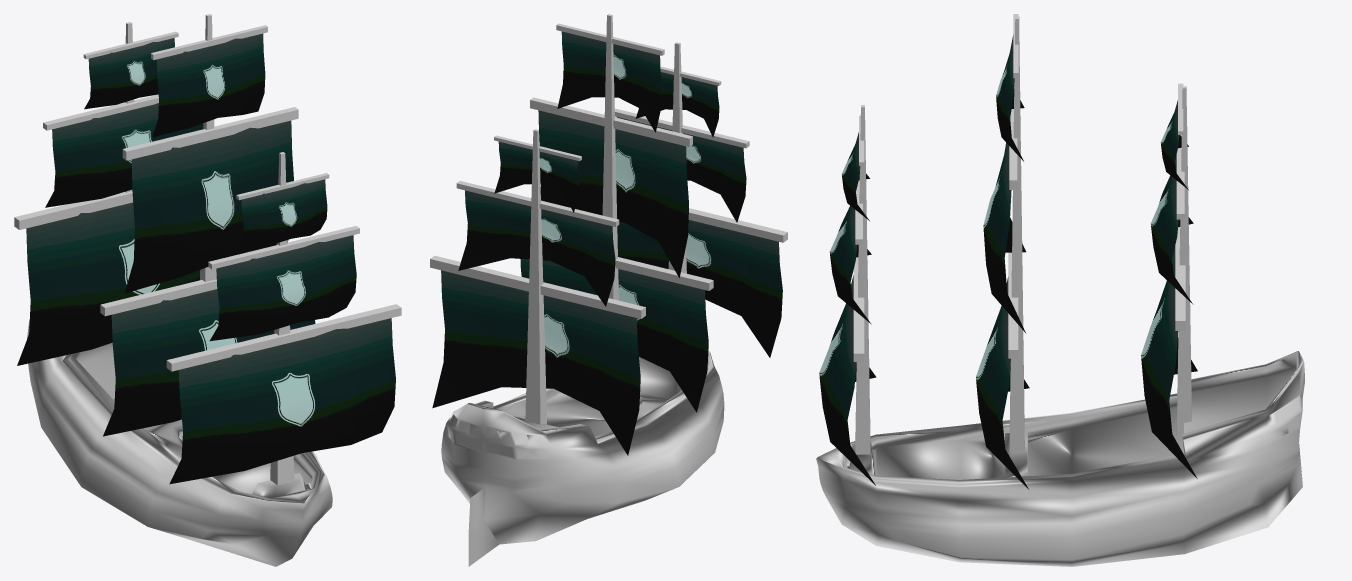
The model's file is corsair.glb.
3 views of the same model, side by side, from view 1: azimuth 30°, elevation 25°; view 2: azimuth 150°, elevation 25°; view 3: azimuth 270°, elevation 25° (orthographic). The views are drawn at different scales.
Visible parts, largest first — view 1: Cube.001, Cube.041; view 2: Cube.001, Cube.041; view 3: Cube.041, Cube.001.
Boxes of the visible parts, x1,y1,x2,y2 form: Cube.001: [17, 33, 395, 484]; Cube.041: [14, 14, 401, 566]; Cube.001: [432, 31, 782, 455]; Cube.041: [430, 14, 787, 566]; Cube.041: [816, 14, 1304, 566]; Cube.001: [819, 35, 1197, 489].
Size of the model in its own units: 0.8 by 1.74 by 1.5.
1 material, 1 textured.
